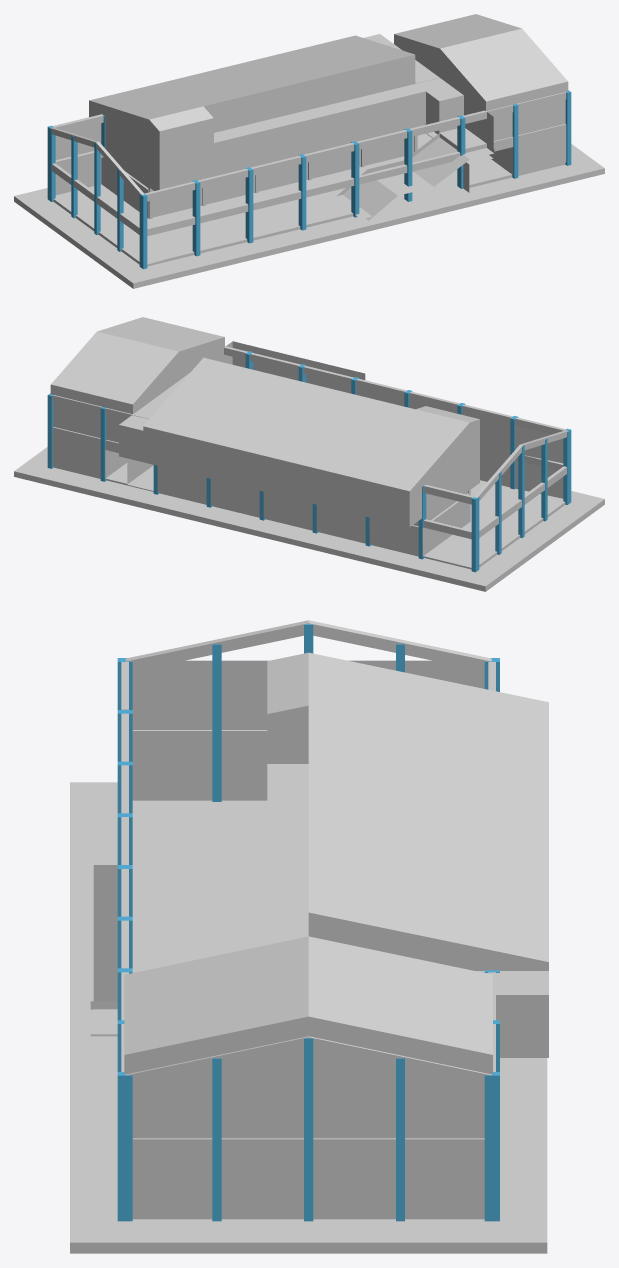
3 views of the same model, one above another, from view 1: azimuth 30°, elevation 25°; view 2: azimuth 150°, elevation 25°; view 3: azimuth 270°, elevation 25° (orthographic). The views are drawn at different scales.
Visible parts, largest first — view 1: xr-structure, 201, 2002, 206, 101, 1001, 203, 202, 204, 205, 102; view 2: xr-structure, 201, 206, 101, 1001, 203, 204, 205, 202, 2002, 105, 103; view 3: xr-structure, 201, 1001, 202, 206, 203, 204, 205, 2002, 102, 104, 105.
Part boxes in pixels (bbox=[...]): xr-structure: bbox=[14, 43, 604, 288]; 201: bbox=[394, 14, 568, 140]; 2002: bbox=[214, 34, 463, 174]; 206: bbox=[89, 87, 213, 187]; 101: bbox=[101, 136, 414, 218]; 1001: bbox=[54, 77, 511, 264]; 203: bbox=[250, 48, 362, 109]; 202: bbox=[303, 35, 415, 96]; 204: bbox=[197, 61, 309, 122]; 205: bbox=[144, 74, 256, 132]; 102: bbox=[511, 134, 566, 174]; xr-structure: bbox=[14, 346, 604, 591]; 201: bbox=[50, 317, 224, 442]; 206: bbox=[355, 406, 479, 527]; 101: bbox=[157, 466, 470, 556]; 1001: bbox=[105, 341, 563, 567]; 203: bbox=[196, 370, 309, 487]; 204: bbox=[249, 383, 361, 500]; 205: bbox=[302, 396, 414, 513]; 202: bbox=[143, 357, 256, 474]; 2002: bbox=[119, 372, 190, 461]; 105: bbox=[52, 437, 100, 476]; 103: bbox=[127, 458, 153, 490]; xr-structure: bbox=[70, 620, 547, 1253]; 201: bbox=[124, 936, 492, 1138]; 1001: bbox=[93, 660, 484, 1110]; 202: bbox=[308, 861, 548, 970]; 206: bbox=[267, 652, 548, 763]; 203: bbox=[308, 809, 548, 910]; 204: bbox=[308, 757, 548, 858]; 205: bbox=[308, 705, 548, 806]; 2002: bbox=[267, 764, 548, 1057]; 102: bbox=[132, 1158, 303, 1214]; 104: bbox=[313, 1158, 395, 1214]; 105: bbox=[405, 1158, 484, 1214].
Size of the model in its own units: 35.6 by 7.74 by 15.65.
